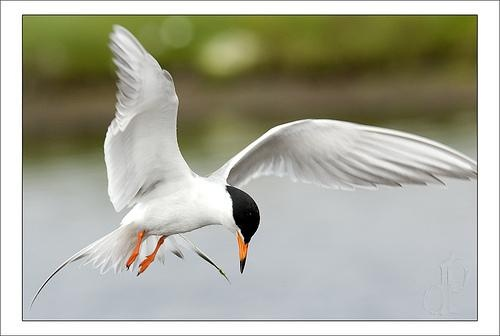bird: (40, 26, 476, 304)
